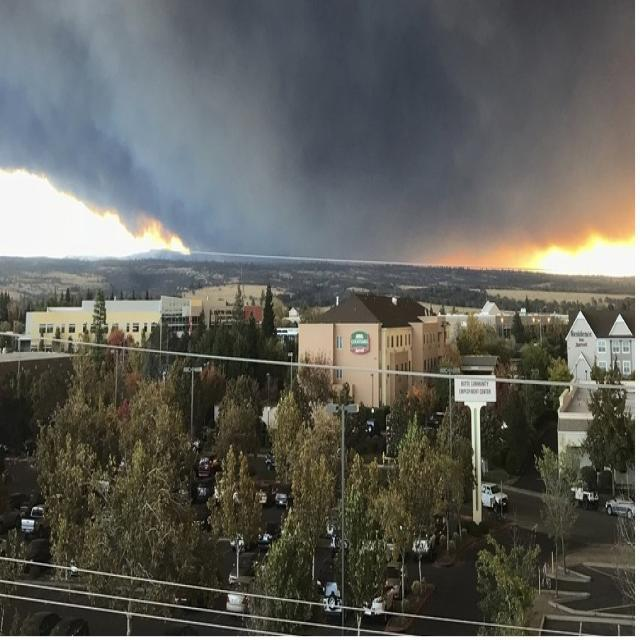Fire: (6, 160, 188, 264), (530, 238, 634, 284)
Smoke: (143, 10, 605, 235)
